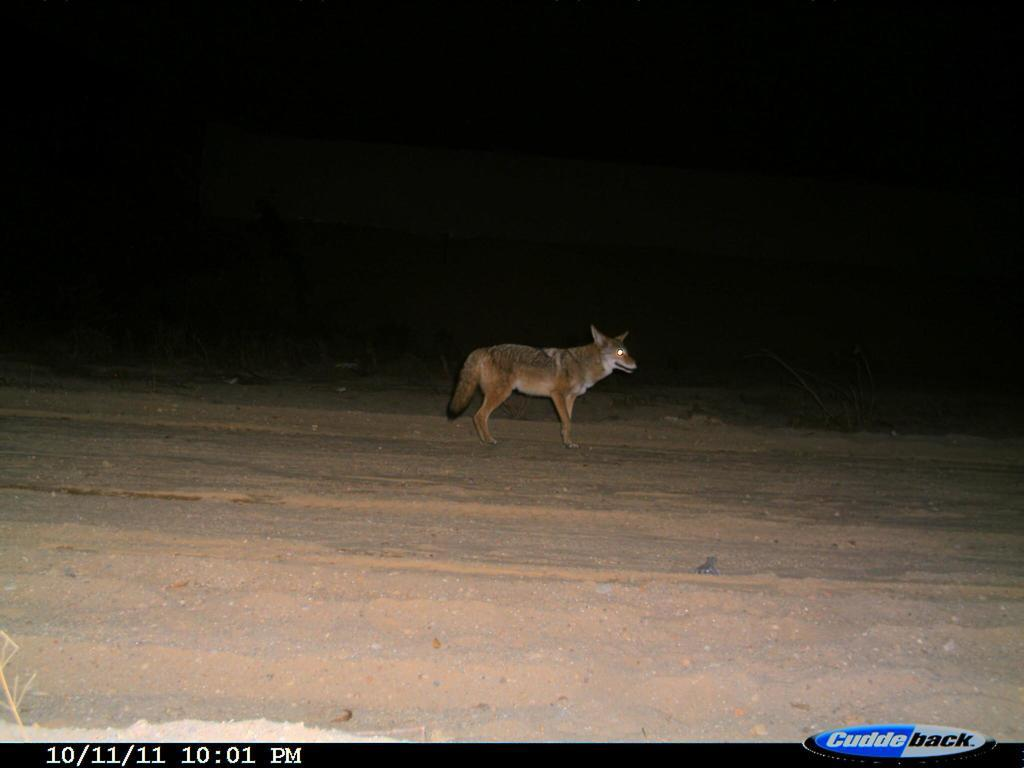coyote: (428, 324, 687, 474)
